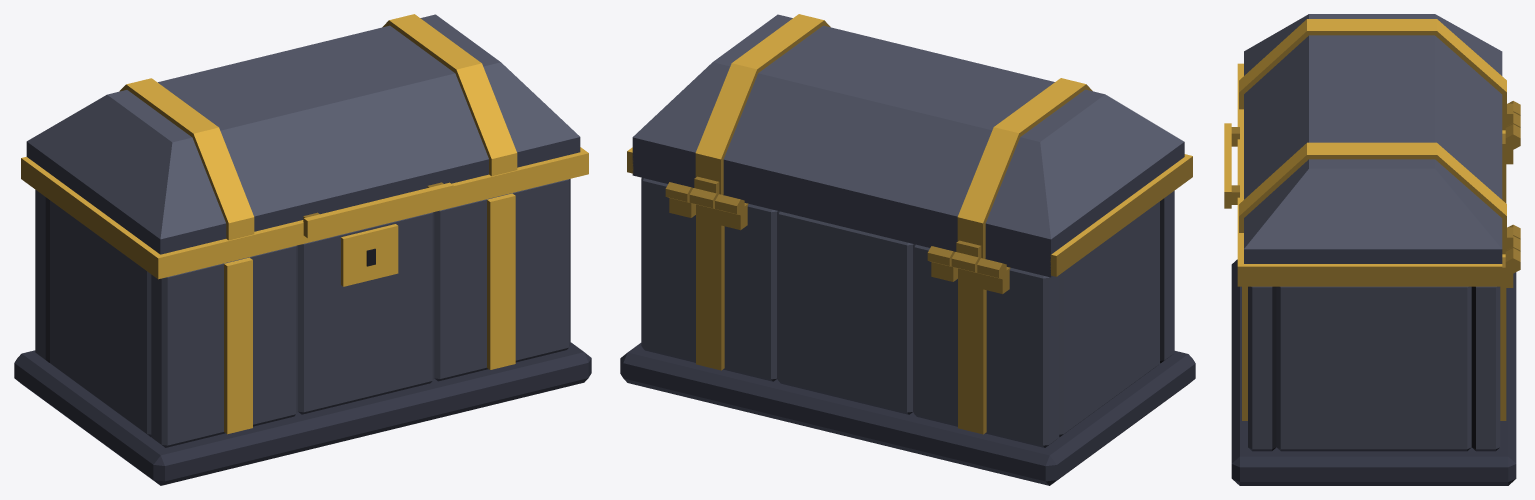
File: MODEL-CHEST.glb
The picture shows the model from 3 angles, left to right: view 1: azimuth 30°, elevation 25°; view 2: azimuth 150°, elevation 25°; view 3: azimuth 270°, elevation 25°; orthographic projection. The views are drawn at different scales.
Parts seen in each view (by area): view 1: Base, Lid; view 2: Base, Lid; view 3: Lid, Base.
Part boxes in pixels (<box>): Base: <box>14,179,591,485</box>; Lid: <box>21,14,588,279</box>; Base: <box>620,178,1195,485</box>; Lid: <box>627,14,1192,277</box>; Lid: <box>1224,14,1520,286</box>; Base: <box>1231,101,1520,485</box>.
Size of the model in its own units: 1.2 by 0.812 by 0.7282.
